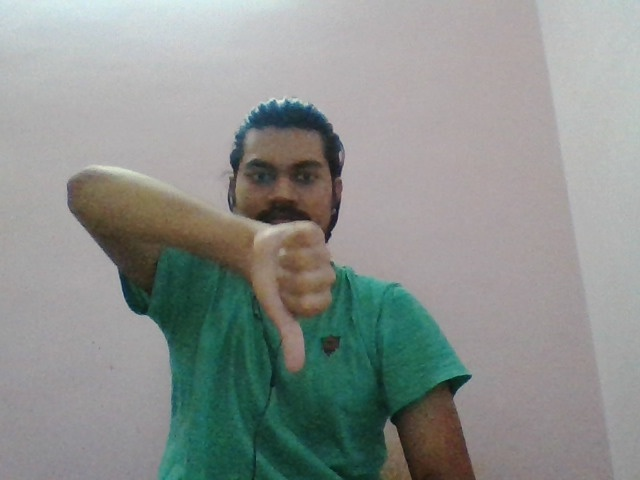ThumbsDown: (247, 218, 338, 374)
